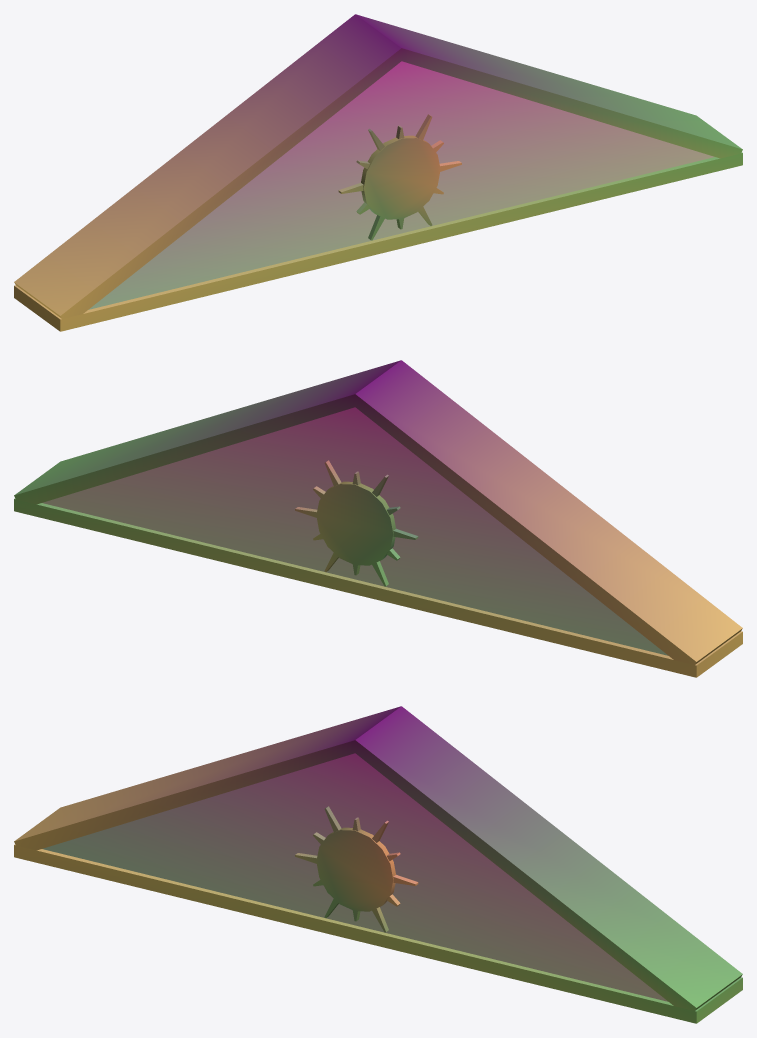
Rendered from palace_pediment_8m.glb.
3 renders of one model, top to bottom at view 1: azimuth 30°, elevation 25°; view 2: azimuth 150°, elevation 25°; view 3: azimuth 330°, elevation 25°, orthographic.
Parts seen in each view (by area): view 1: palace_pediment_rake, palace_pediment, palace_pediment_sun; view 2: palace_pediment_rake, palace_pediment, palace_pediment_sun; view 3: palace_pediment_rake, palace_pediment, palace_pediment_sun.
Boxes of the visible parts, x1,y1,x2,y2 form: palace_pediment_rake: (14, 14, 742, 331); palace_pediment: (88, 61, 714, 309); palace_pediment_sun: (338, 114, 461, 240); palace_pediment_rake: (14, 360, 742, 677); palace_pediment: (42, 407, 668, 655); palace_pediment_sun: (295, 460, 418, 586); palace_pediment_rake: (14, 706, 742, 1023); palace_pediment: (42, 753, 668, 1001); palace_pediment_sun: (295, 806, 418, 932).
Size of the model in its own units: 8.16 by 2.29 by 0.98.
